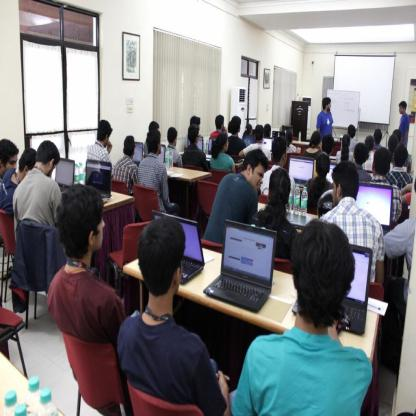board: (200, 221, 284, 317), (293, 245, 372, 337), (153, 210, 205, 285), (356, 183, 392, 235), (86, 160, 111, 200), (288, 158, 313, 188), (55, 158, 74, 194), (38, 387, 58, 416), (132, 144, 144, 166), (292, 184, 300, 216), (187, 136, 202, 151), (326, 164, 337, 184), (300, 187, 307, 216), (262, 138, 274, 153), (286, 184, 292, 213), (208, 136, 217, 155), (243, 134, 256, 147), (158, 145, 165, 164), (74, 163, 79, 186), (79, 163, 84, 185), (165, 147, 169, 171), (206, 140, 210, 158), (170, 147, 173, 170), (202, 139, 206, 156), (298, 131, 302, 143)
